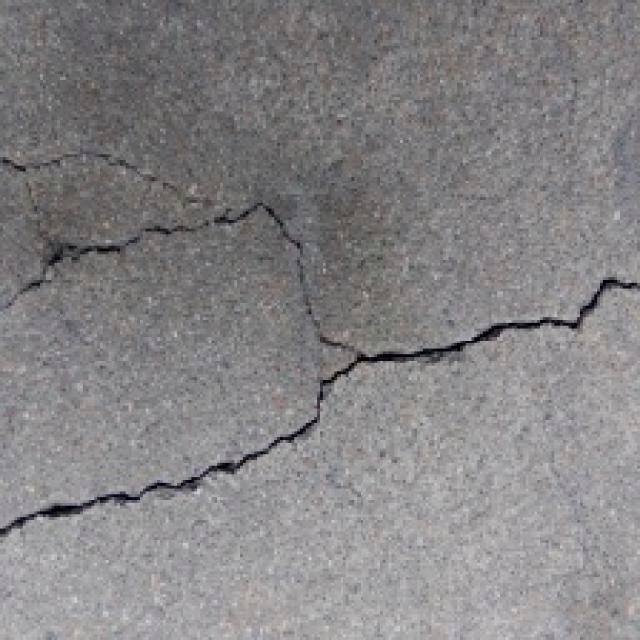SurfaceCrack: (0, 290, 640, 534), (0, 126, 382, 366)
